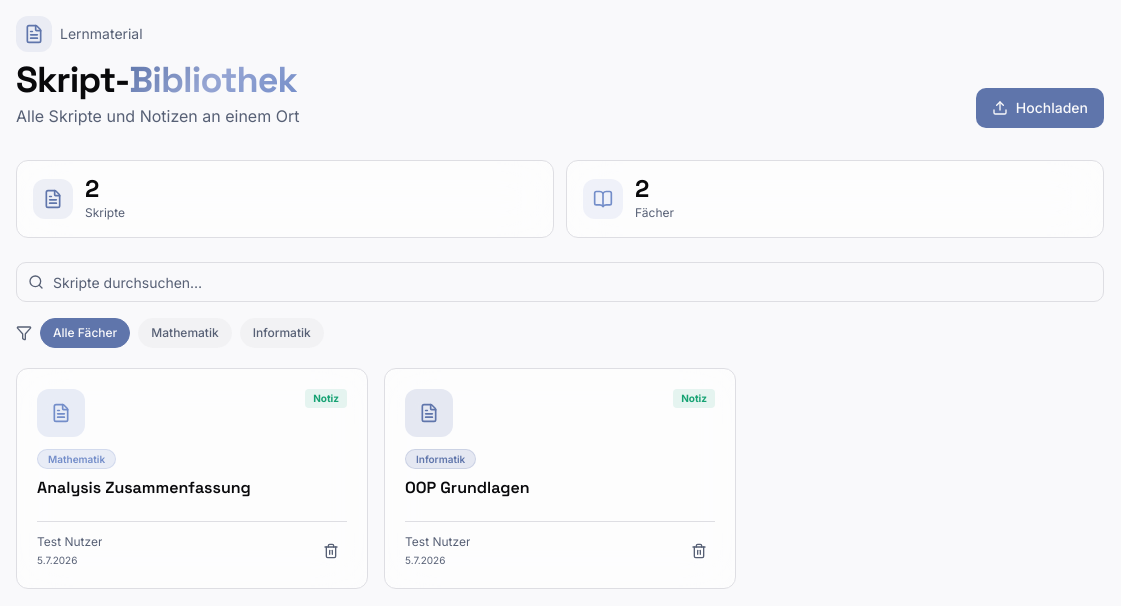
Scenario: SkriptePage – Suche und Subject-Filter › filtert nach Suchwort im Titel
Type "Analysis" into the field with placeholder "Skripte durchsuchen…" at (560, 282), box [16,262,1104,302]
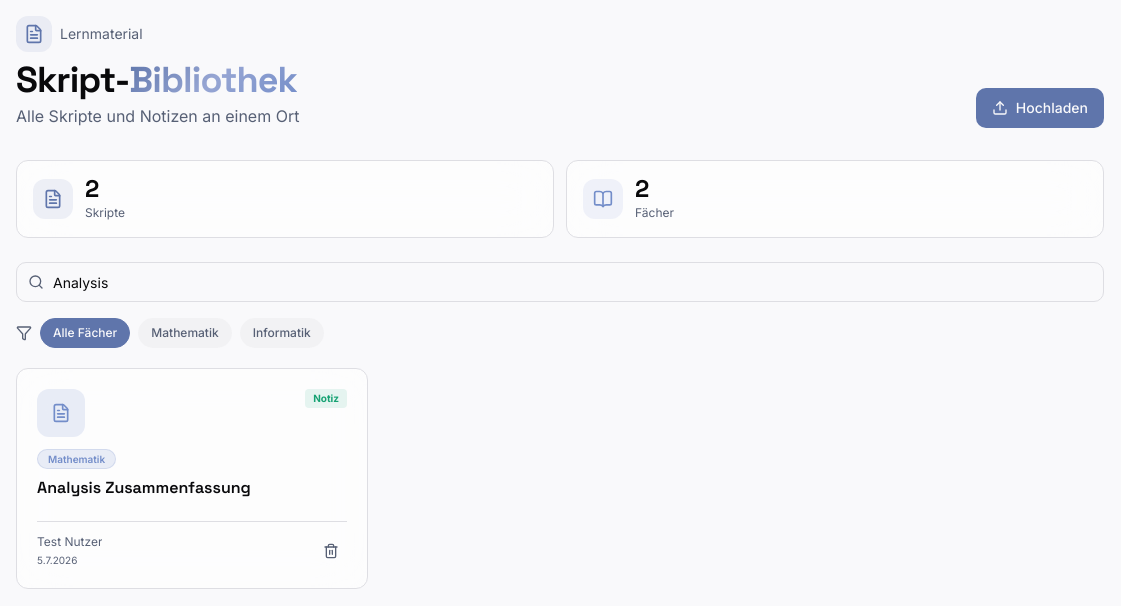
Expected: the heading "Analysis Zusammenfassung" is shown, [37,477,251,498]
Result: the heading "OOP Grundlagen" is gone
